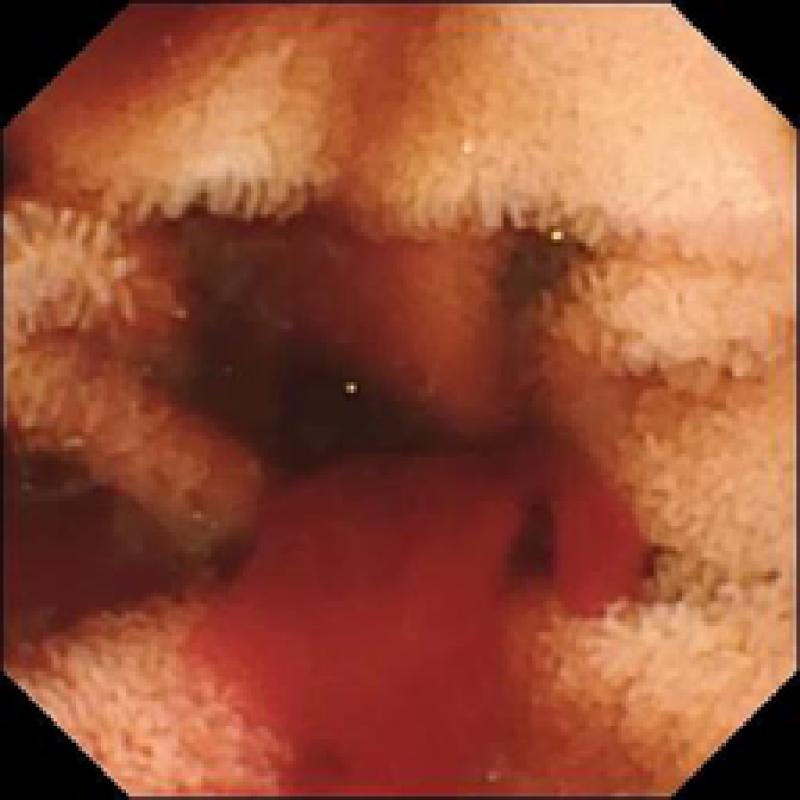bleeding: (189, 435, 639, 800)
